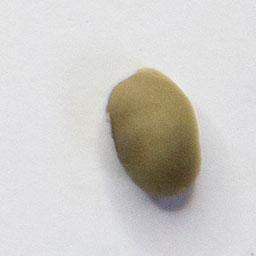peaberry: (101, 64, 207, 199)
